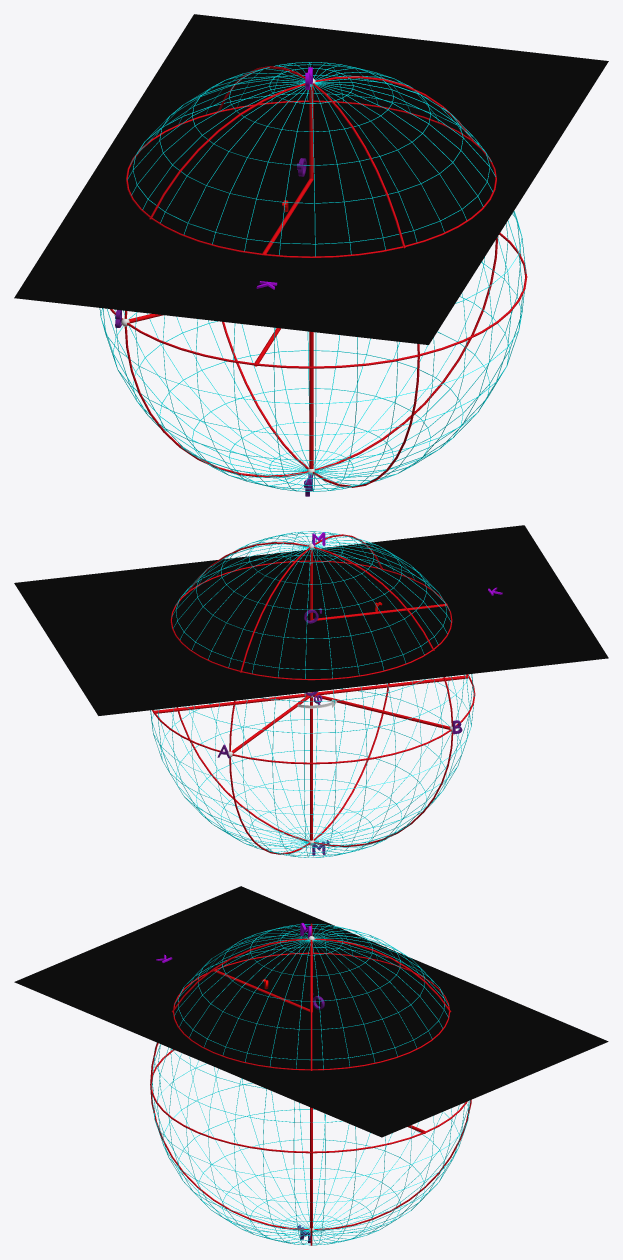
3 views of the same model, one above another, from view 1: azimuth 30°, elevation 25°; view 2: azimuth 150°, elevation 25°; view 3: azimuth 270°, elevation 25° (orthographic). The views are drawn at different scales.
Visible parts, largest first — view 1: Plane, Sphere, Torus, Torus.001, Torus.002, Torus.003, Cylinder.001; view 2: Plane, Sphere, Torus, Torus.001, Cylinder.003, Torus.002, Torus.003, Cylinder.001, Cylinder.006; view 3: Plane, Sphere, Torus.001, Torus.002, Torus.003, Torus.
Boxes of the visible parts, bbox=[...] form: Plane: bbox=[14, 14, 608, 344]; Sphere: bbox=[99, 62, 526, 491]; Torus: bbox=[124, 76, 498, 477]; Torus.001: bbox=[217, 66, 419, 487]; Torus.002: bbox=[126, 100, 496, 257]; Torus.003: bbox=[110, 232, 527, 368]; Cylinder.001: bbox=[309, 86, 313, 468]; Plane: bbox=[14, 525, 608, 715]; Sphere: bbox=[150, 531, 474, 857]; Torus: bbox=[176, 542, 453, 846]; Torus.001: bbox=[229, 534, 389, 854]; Cylinder.003: bbox=[153, 675, 469, 713]; Torus.002: bbox=[170, 560, 452, 680]; Torus.003: bbox=[152, 674, 475, 764]; Cylinder.001: bbox=[310, 550, 312, 840]; Cylinder.006: bbox=[313, 694, 449, 729]; Plane: bbox=[14, 886, 608, 1137]; Sphere: bbox=[151, 924, 470, 1245]; Torus.001: bbox=[150, 938, 471, 1230]; Torus.002: bbox=[172, 952, 450, 1070]; Torus.003: bbox=[150, 1049, 467, 1153]; Torus: bbox=[310, 923, 312, 1245].
Bounding box in the file's own units: 3.71 × 2.17 × 3.71.
